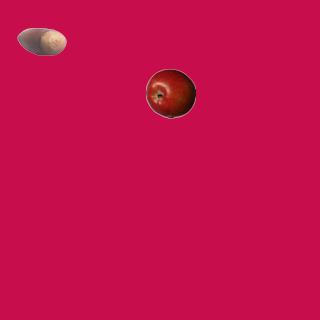Apple Braeburn: (145, 68, 195, 118)
Hazelnut: (16, 16, 66, 66)
